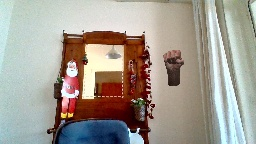Pugno: (162, 48, 185, 70)
